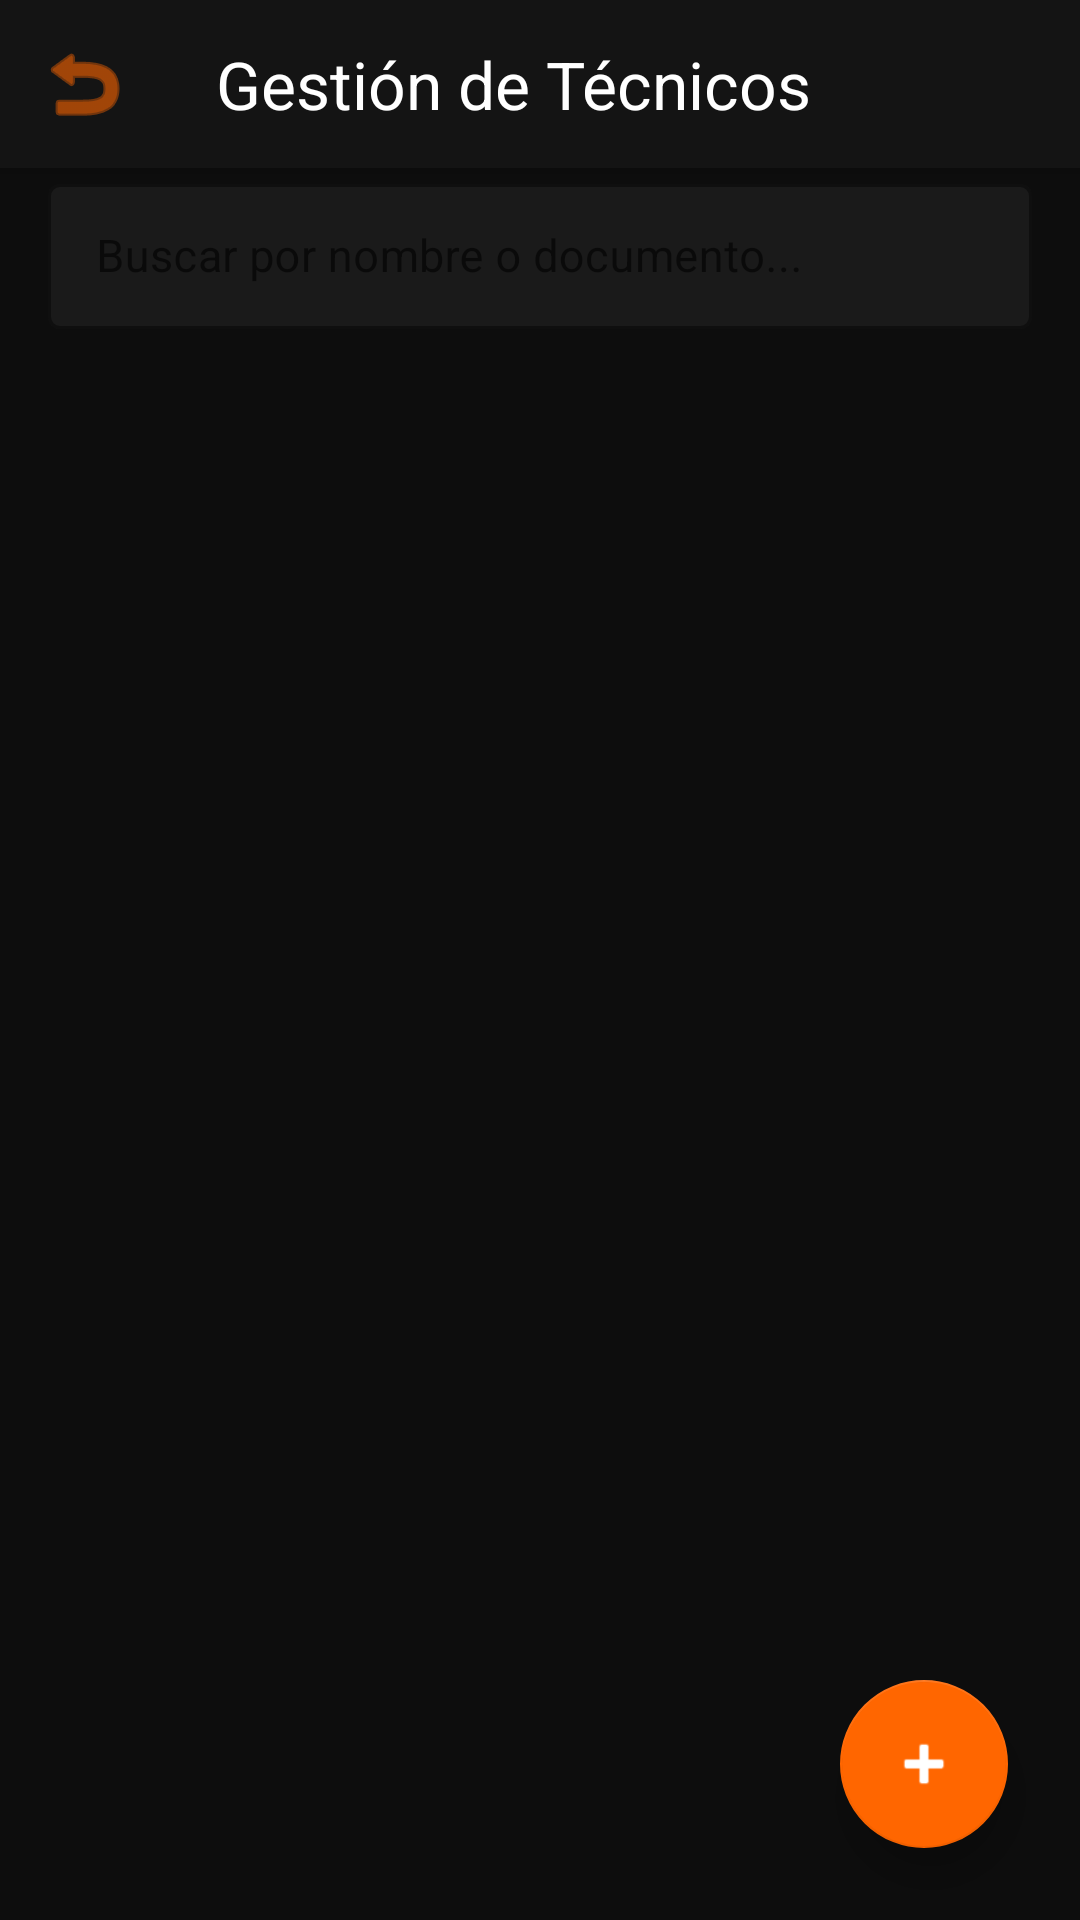

Icons on this 1080px x 1920px Android screen, each with its box as (x1, y1, x2, y2):
Agregar Técnico: (840, 1680, 1008, 1848)
